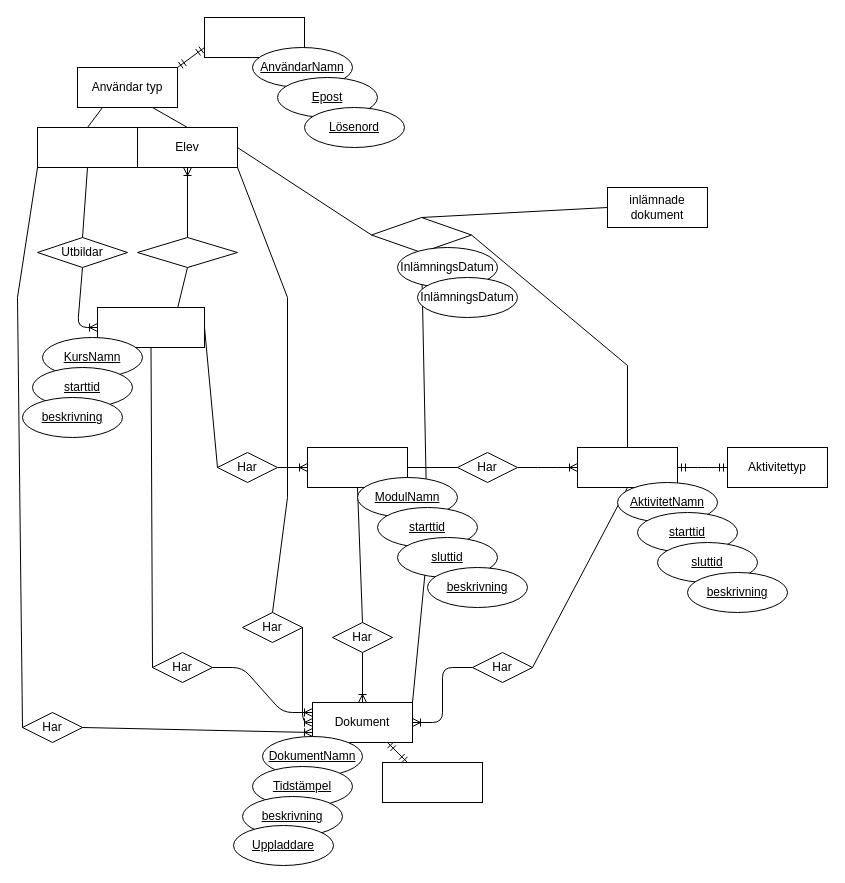
This 845x883 diagram has some shape labels left out. The box of each missing label's shape, as (x1, y1, x2, y2) in pixels:
Aktivitet: (576, 446, 678, 488)
Användare: (204, 16, 304, 58)
Deltar: (136, 236, 238, 268)
Dokumenttyp: (382, 762, 482, 802)
Kurs: (96, 306, 204, 348)
Lärare: (36, 126, 138, 168)
Modul: (306, 446, 408, 488)
Redovisa: (370, 216, 472, 252)
